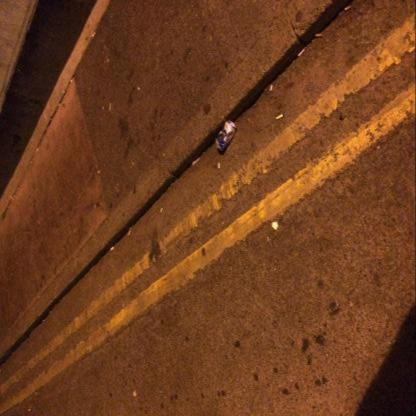Can: (216, 120, 237, 152)
Cigarette: (299, 47, 307, 57), (277, 114, 284, 120), (345, 4, 351, 10), (316, 33, 324, 36), (92, 32, 96, 37), (270, 85, 272, 91), (218, 162, 220, 168)
Unlabeled litter: (272, 223, 278, 230)
